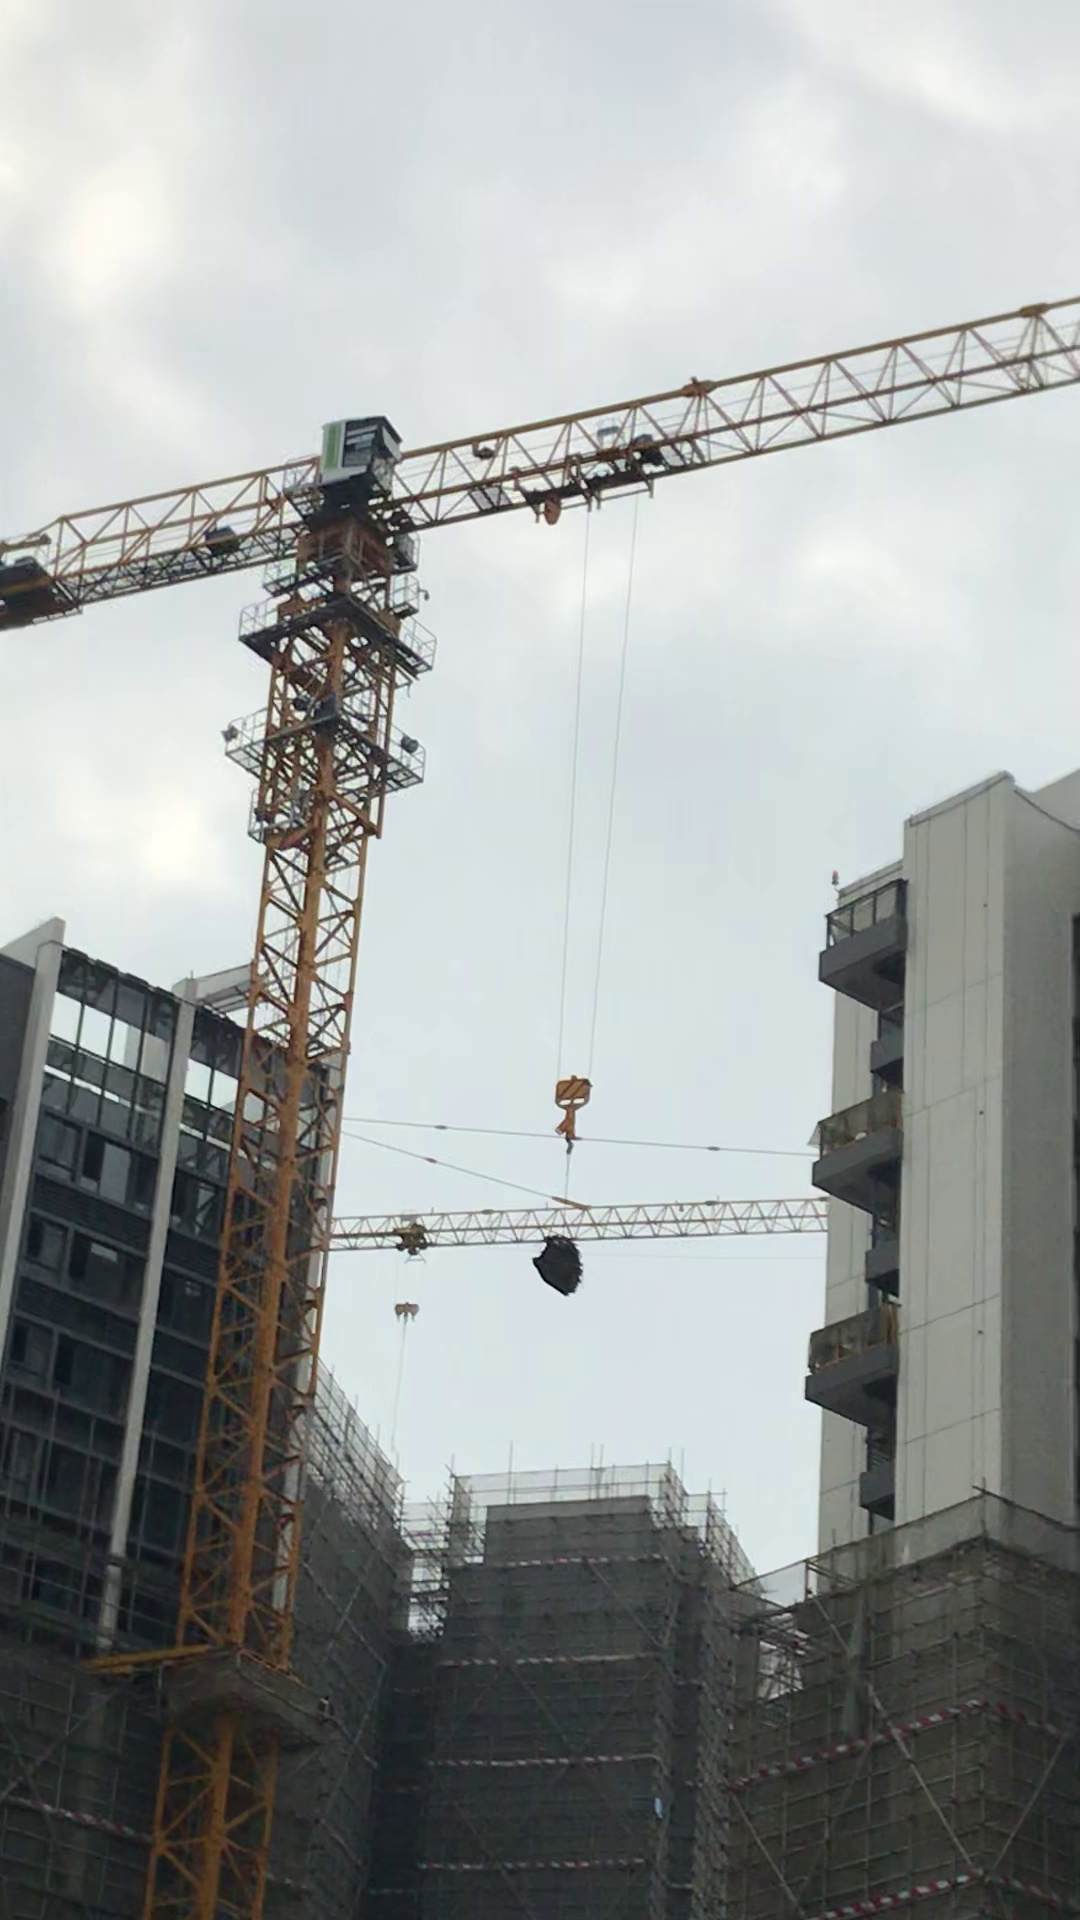hook: (553, 1077, 589, 1155), (396, 1300, 418, 1327)
